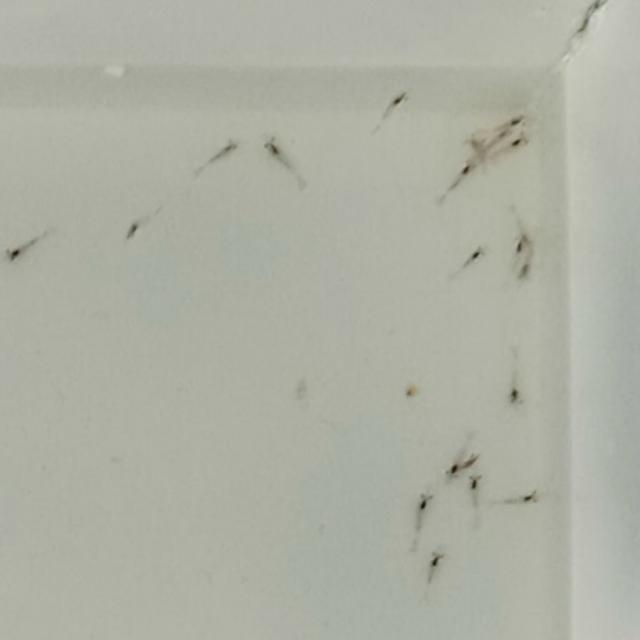shrimp-seed: (209, 137, 237, 163), (384, 87, 412, 112), (454, 159, 480, 183), (262, 136, 282, 161), (505, 386, 527, 408), (426, 548, 446, 570), (414, 492, 435, 512), (512, 133, 532, 154), (520, 489, 540, 509), (468, 243, 486, 265), (442, 461, 459, 484), (4, 244, 23, 264), (122, 222, 140, 242), (506, 111, 526, 129), (464, 474, 484, 490), (516, 263, 532, 283), (518, 230, 532, 246), (514, 238, 526, 256)
